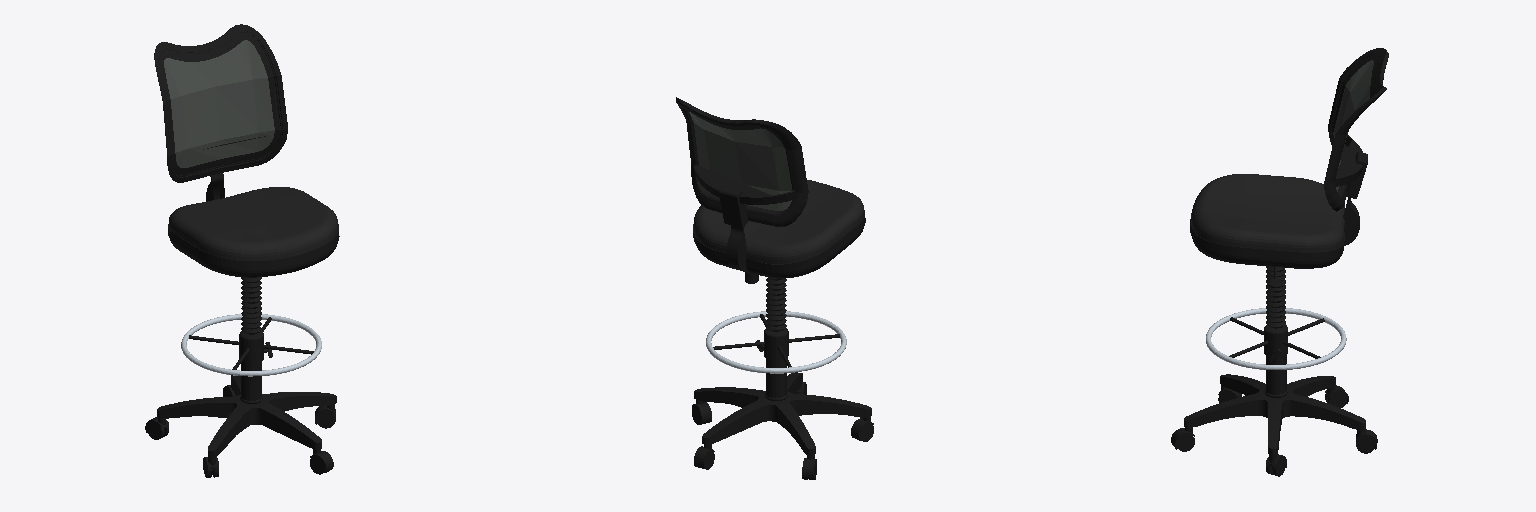
Rendered from chair4.obj.
The picture shows the model from 3 angles: view 1: azimuth 30°, elevation 25°; view 2: azimuth 150°, elevation 25°; view 3: azimuth 270°, elevation 25°; orthographic projection.
Visible parts, largest first — view 1: Mesh20 skph81bD4_1 Model, Mesh21 skph81bD4_1 Model, Mesh4 Component1_1 skph81bD4_1 Model, Mesh28 skph81bD4_1 Model, Mesh5 Component2_1 skph81bD4_1 Model, Mesh25 skph81bD4_1 Model; view 2: Mesh20 skph81bD4_1 Model, Mesh21 skph81bD4_1 Model, Mesh4 Component1_1 skph81bD4_1 Model, Mesh28 skph81bD4_1 Model, Mesh23 skph81bD4_1 Model, Mesh5 Component2_1 skph81bD4_1 Model, Mesh24 skph81bD4_1 Model, Mesh25 skph81bD4_1 Model; view 3: Mesh21 skph81bD4_1 Model, Mesh4 Component1_1 skph81bD4_1 Model, Mesh20 skph81bD4_1 Model, Mesh28 skph81bD4_1 Model, Mesh5 Component2_1 skph81bD4_1 Model, Mesh25 skph81bD4_1 Model, Mesh23 skph81bD4_1 Model, Mesh24 skph81bD4_1 Model.
Boxes of the visible parts, x1,y1,x2,y2 form: Mesh20 skph81bD4_1 Model: [154, 24, 287, 182]; Mesh21 skph81bD4_1 Model: [168, 187, 339, 276]; Mesh4 Component1_1 skph81bD4_1 Model: [157, 375, 336, 457]; Mesh28 skph81bD4_1 Model: [181, 314, 321, 376]; Mesh5 Component2_1 skph81bD4_1 Model: [239, 331, 263, 403]; Mesh25 skph81bD4_1 Model: [241, 277, 261, 334]; Mesh20 skph81bD4_1 Model: [676, 97, 808, 226]; Mesh21 skph81bD4_1 Model: [693, 180, 865, 278]; Mesh4 Component1_1 skph81bD4_1 Model: [694, 372, 871, 455]; Mesh28 skph81bD4_1 Model: [706, 311, 846, 373]; Mesh23 skph81bD4_1 Model: [719, 186, 747, 271]; Mesh5 Component2_1 skph81bD4_1 Model: [764, 328, 788, 400]; Mesh24 skph81bD4_1 Model: [693, 165, 795, 204]; Mesh25 skph81bD4_1 Model: [766, 277, 786, 331]; Mesh21 skph81bD4_1 Model: [1190, 174, 1344, 268]; Mesh4 Component1_1 skph81bD4_1 Model: [1184, 374, 1365, 454]; Mesh20 skph81bD4_1 Model: [1324, 48, 1388, 211]; Mesh28 skph81bD4_1 Model: [1206, 308, 1346, 369]; Mesh5 Component2_1 skph81bD4_1 Model: [1264, 325, 1287, 397]; Mesh25 skph81bD4_1 Model: [1266, 266, 1285, 328]; Mesh23 skph81bD4_1 Model: [1343, 152, 1367, 245]; Mesh24 skph81bD4_1 Model: [1334, 135, 1363, 186].
Size of the model in its own units: 0.61 by 1.38 by 0.7356.